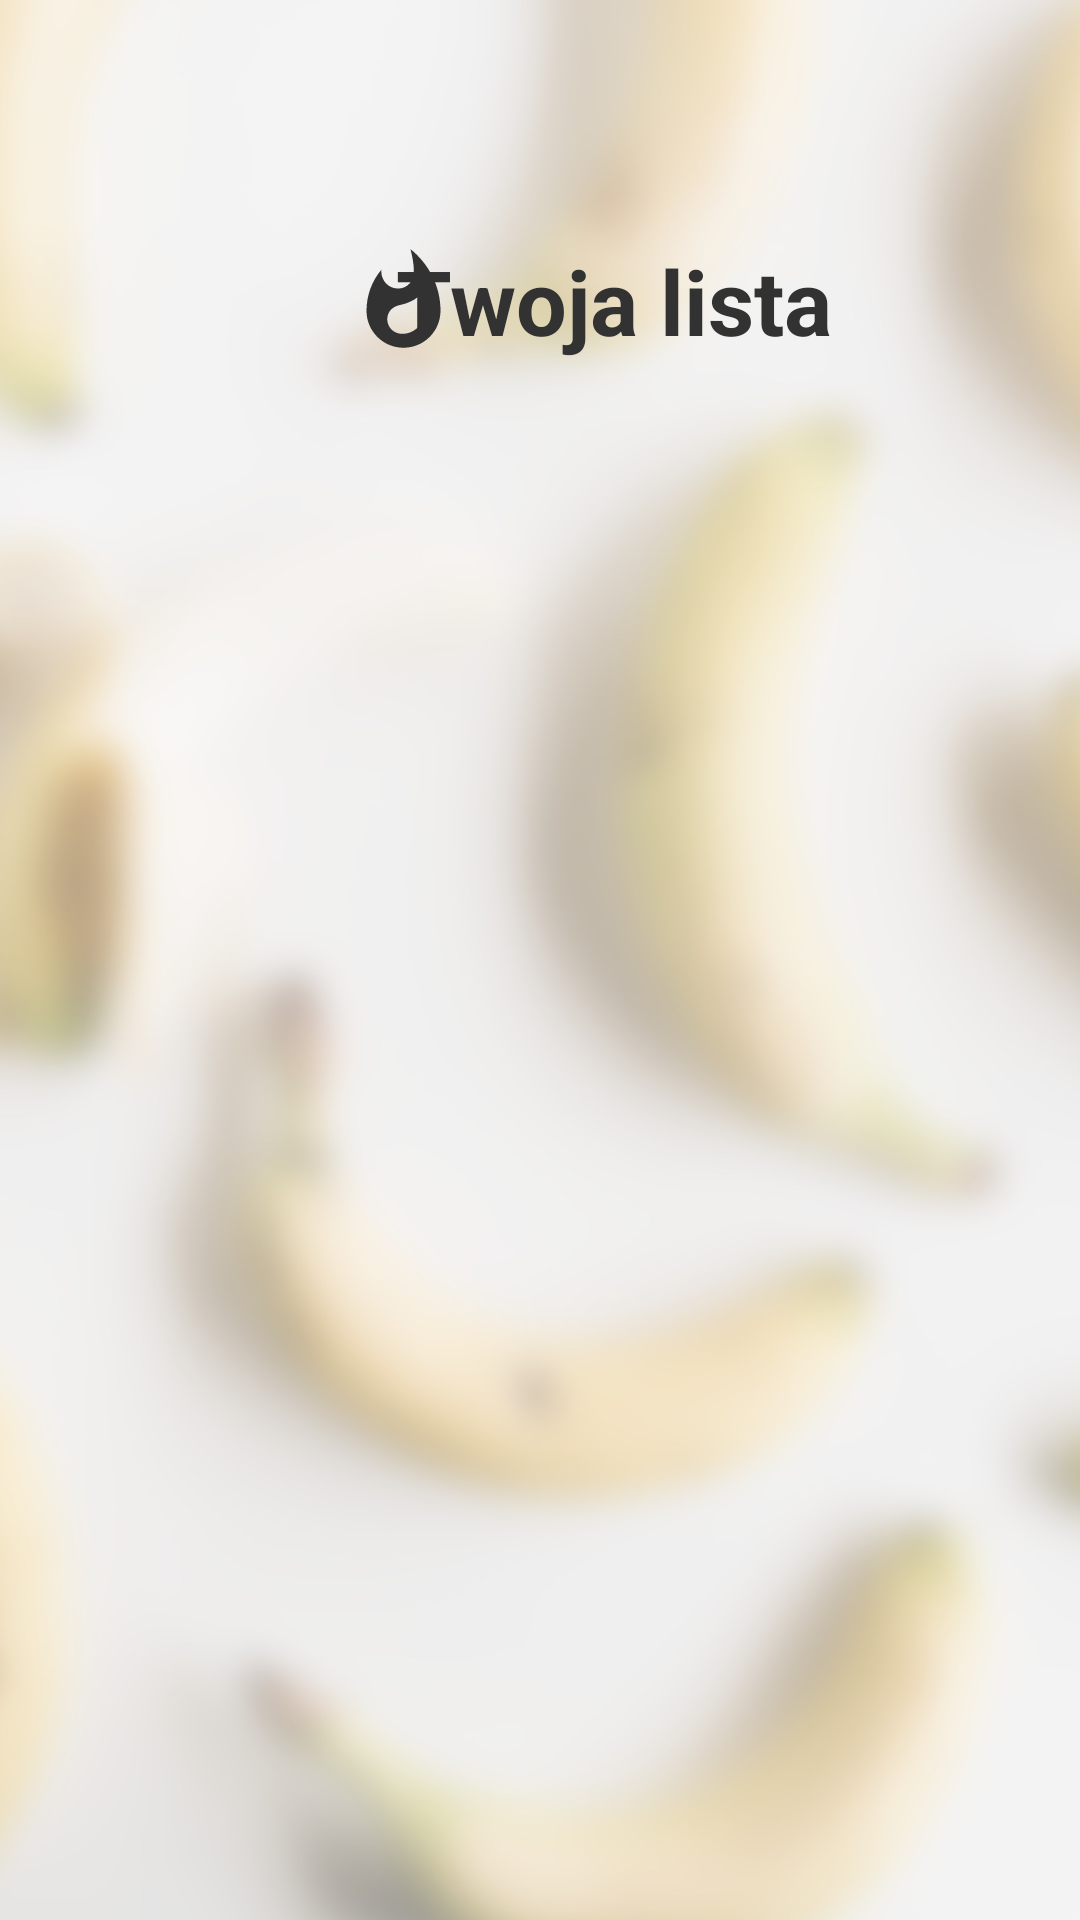

Icon click points for this 1080px×1920px phone screenshot, format (x,y):
whatshot: (403,301)
